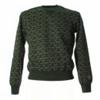maglione: (10, 5, 90, 94)
